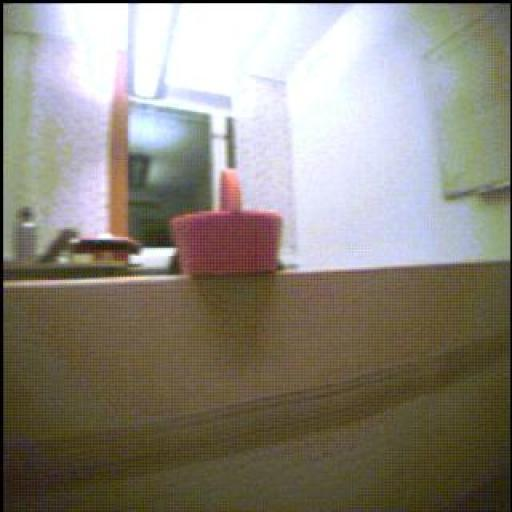Bucket: (172, 171, 283, 276)
